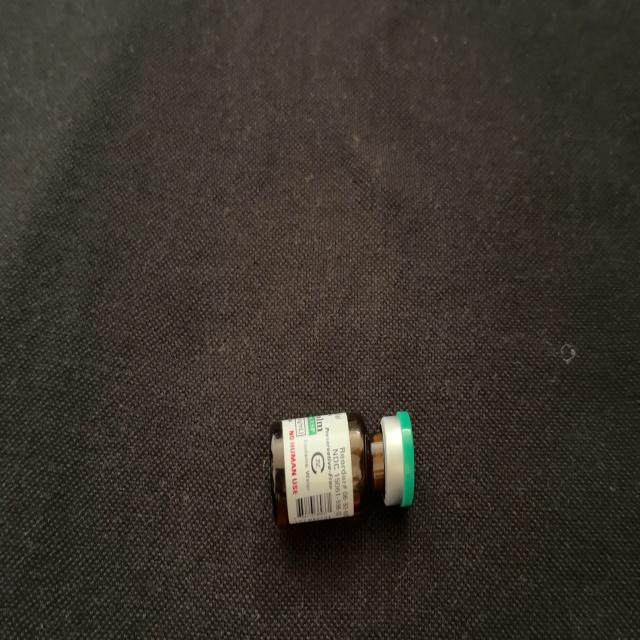midazolm: (272, 412, 412, 524)
